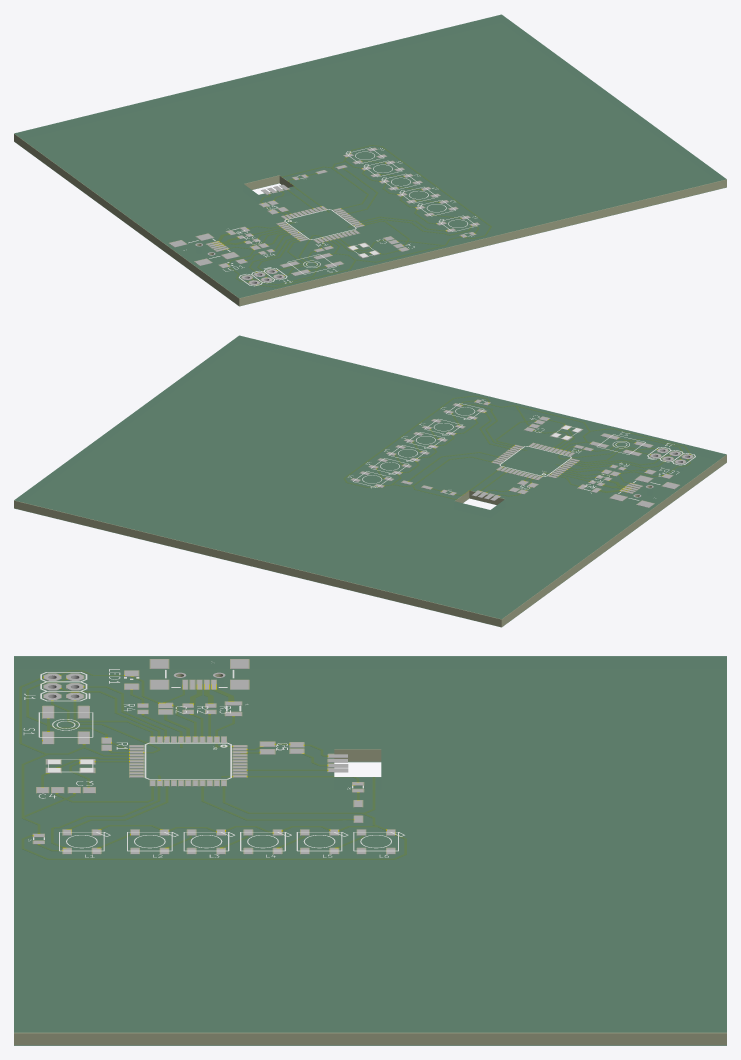
Rendered from thotcon-0x6-badge.glb.
3 views of the same model, one above another, from view 1: azimuth 30°, elevation 25°; view 2: azimuth 150°, elevation 25°; view 3: azimuth 270°, elevation 25° (orthographic). The views are drawn at different scales.
Visible parts, largest first — view 1: =>[0:1:1:5], =>[0:1:1:7], =>[0:1:1:2], =>[0:1:1:4]; view 2: =>[0:1:1:5], =>[0:1:1:7], =>[0:1:1:2], =>[0:1:1:4]; view 3: =>[0:1:1:5], =>[0:1:1:7], =>[0:1:1:2], =>[0:1:1:4].
Boxes of the visible parts, x1,y1,x2,y2 form: =>[0:1:1:5]: [14, 14, 726, 306]; =>[0:1:1:7]: [14, 15, 726, 306]; =>[0:1:1:2]: [169, 145, 491, 286]; =>[0:1:1:4]: [183, 147, 477, 286]; =>[0:1:1:5]: [14, 335, 726, 627]; =>[0:1:1:7]: [14, 336, 726, 627]; =>[0:1:1:2]: [344, 396, 692, 507]; =>[0:1:1:4]: [348, 399, 695, 500]; =>[0:1:1:5]: [14, 656, 726, 1045]; =>[0:1:1:7]: [14, 657, 726, 1045]; =>[0:1:1:2]: [20, 659, 406, 859]; =>[0:1:1:4]: [23, 661, 404, 857].
Size of the model in its own units: 0.1 by 0.00163 by 0.08.
4 materials, 4 textured.
